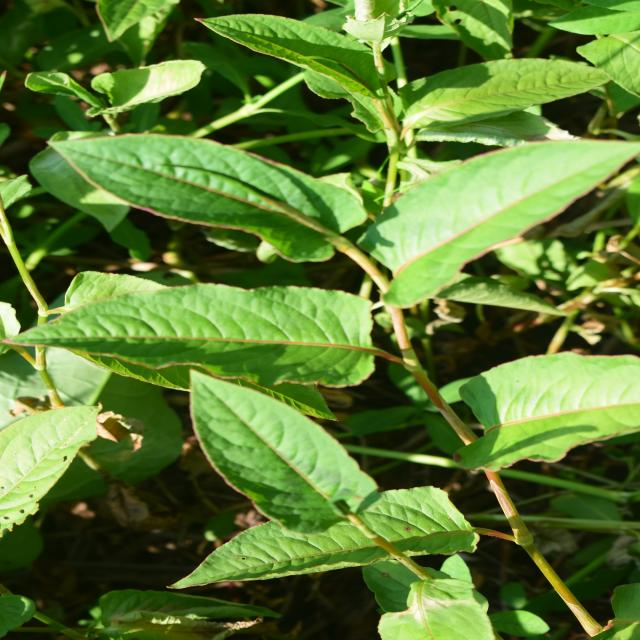Chinese_knotweed: (237, 40, 516, 590)
